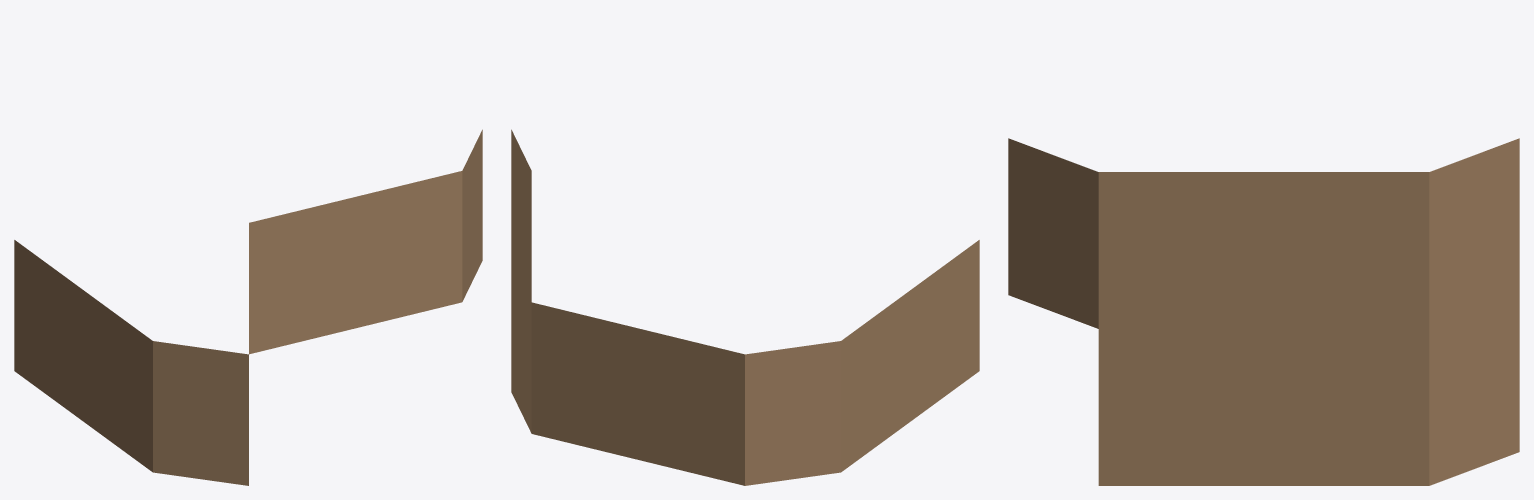
Rendered from 1342-Buildings-shell-pieces-facade-bay-wall-round-an-opening-reveals-sill-head-emitBa.glb.
3 renders of one model, left to right at view 1: azimuth 30°, elevation 25°; view 2: azimuth 150°, elevation 25°; view 3: azimuth 270°, elevation 25°, orthographic. The views are drawn at different scales.
Parts seen in each view (by area): view 1: emitBay; view 2: emitBay; view 3: emitBay.
Part boxes in pixels (left/top/right/bottom): emitBay: left=14, top=129, right=482, bottom=485; emitBay: left=511, top=129, right=979, bottom=485; emitBay: left=1008, top=138, right=1519, bottom=485.
Size of the model in its own units: 8 by 6.1 by 9.
